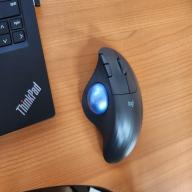mouse: (82, 46, 143, 164)
